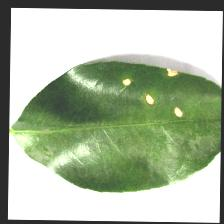canker: (91, 60, 195, 124)
